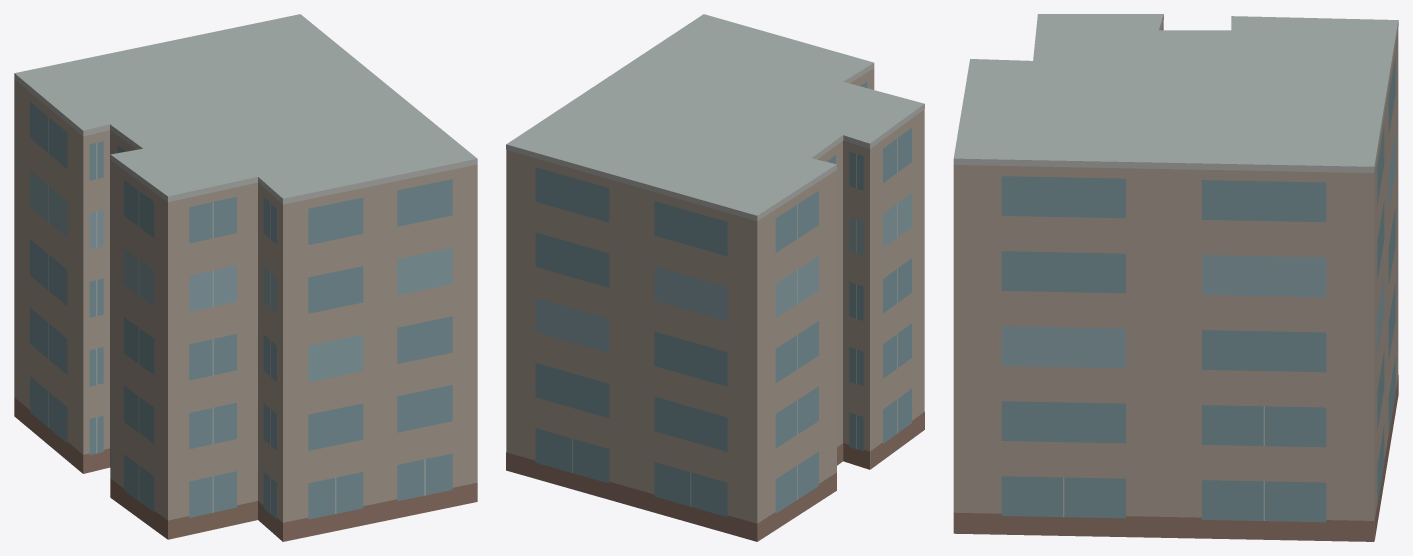
File: survey-upis-32867995.glb
3 views of the same model, side by side, from view 1: azimuth 30°, elevation 25°; view 2: azimuth 150°, elevation 25°; view 3: azimuth 270°, elevation 25° (orthographic). The views are drawn at different scales.
Parts seen in each view (by area): view 1: survey-upis-32867995.tmp; view 2: survey-upis-32867995.tmp; view 3: survey-upis-32867995.tmp.
Boxes of the visible parts, x1=… form: survey-upis-32867995.tmp: x1=14, y1=14, x2=477, y2=541; survey-upis-32867995.tmp: x1=506, y1=14, x2=924, y2=541; survey-upis-32867995.tmp: x1=953, y1=14, x2=1398, y2=541.
Size of the model in its own units: 12.75 by 14.58 by 15.68.
